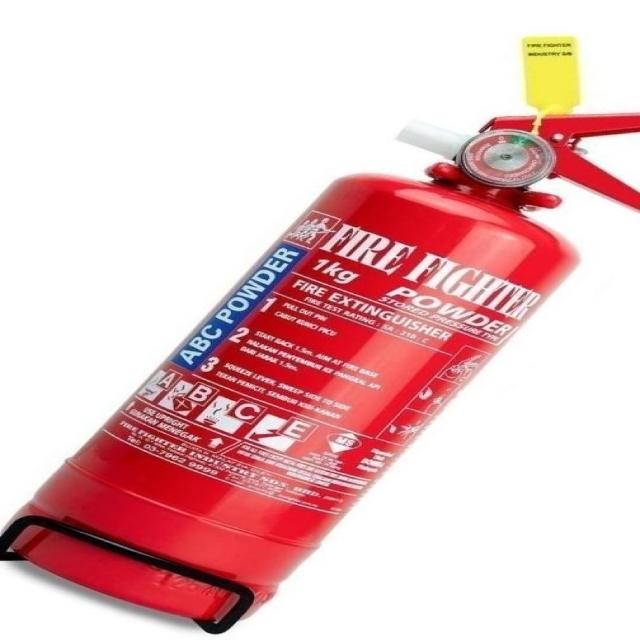fire_extinguisher: (0, 31, 639, 636)
